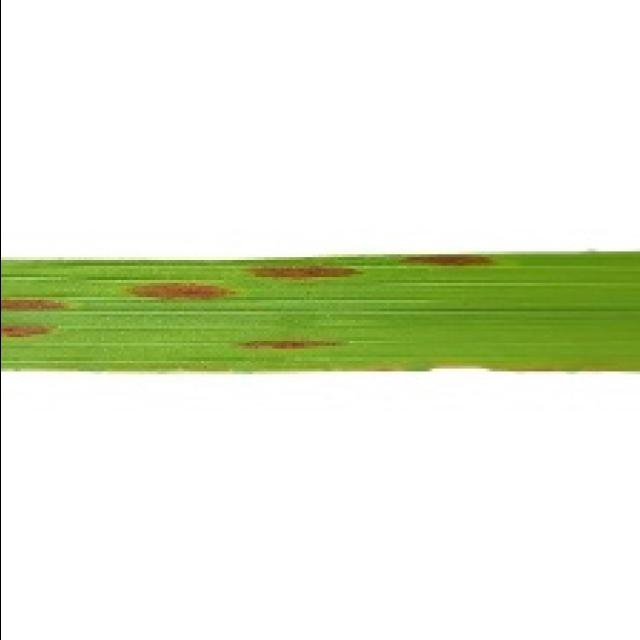Unhealthy: (249, 260, 360, 283), (120, 283, 234, 303), (388, 251, 516, 266), (0, 294, 80, 312), (243, 337, 343, 351), (0, 325, 57, 343)
